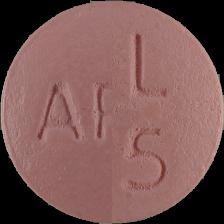60505-0253: (0, 0, 224, 224)
